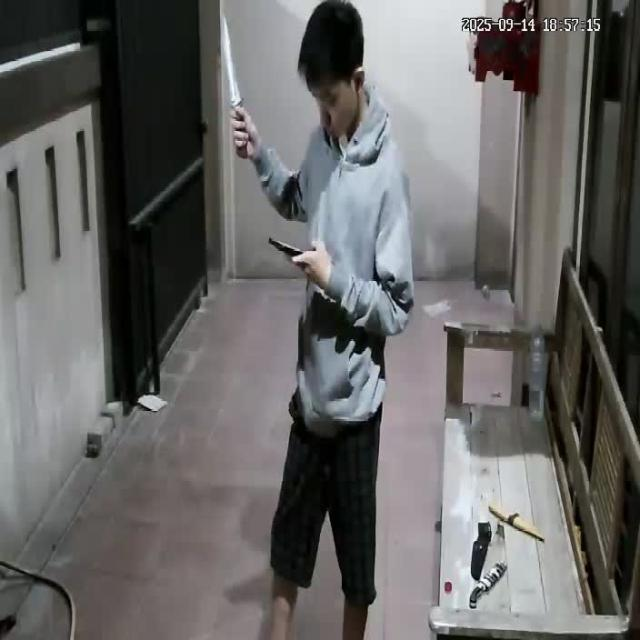senjata_tajam: (218, 11, 244, 111)
